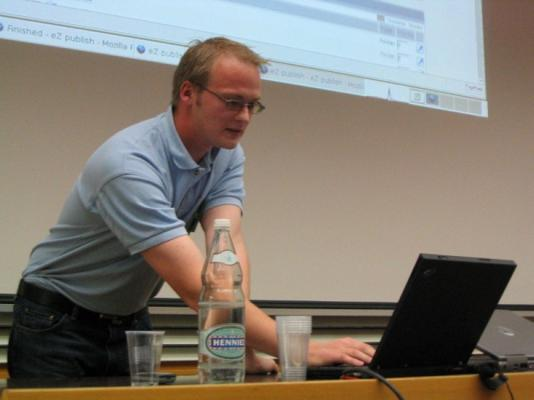person: (8, 37, 373, 392)
